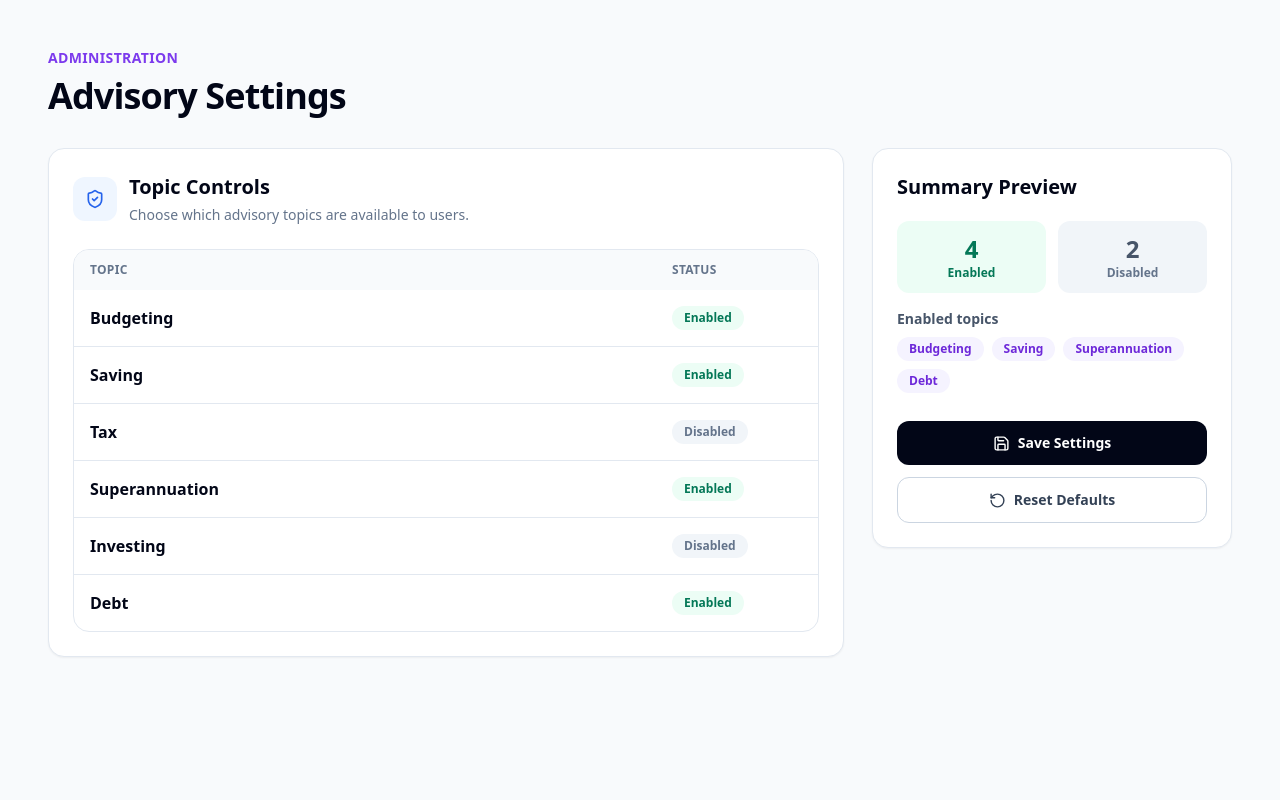
shows an error when saving advisory settings fails
Step 1. Click the button "Save Settings" → x=1052, y=443, box [897, 421, 1207, 465]
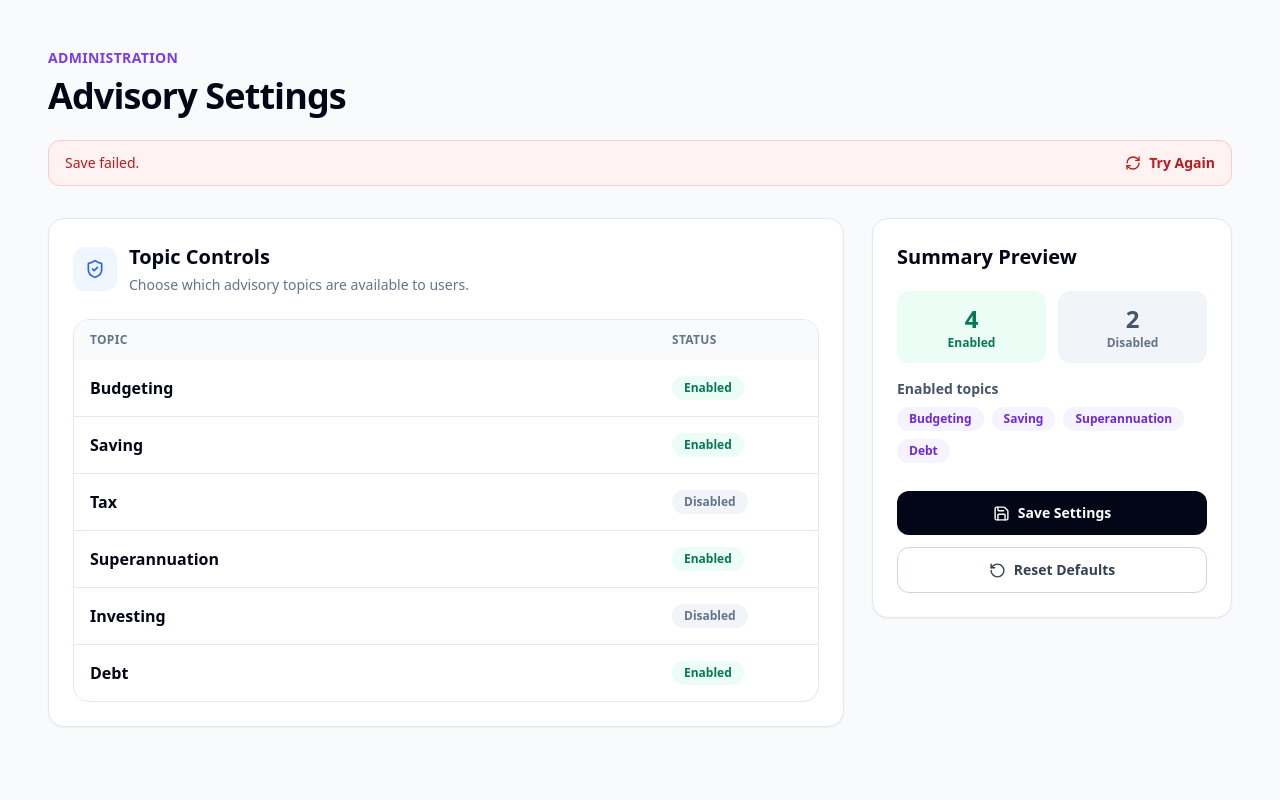
expect the button "Save Settings" is enabled: met, box [897, 491, 1207, 535]
expect the message shows "Save failed.": met, box [65, 153, 139, 172]
